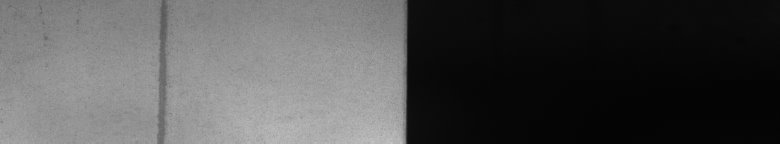hd: (152, 4, 172, 136)
